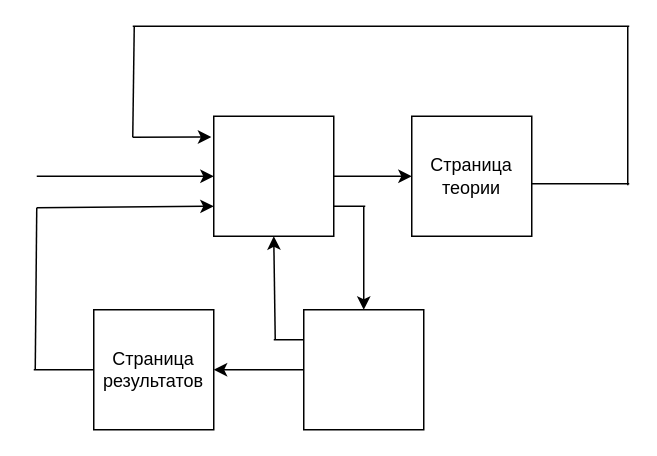
Image size: 657x456. Some labels were removed from this diagram. The shapes that lost their labels are listed below. From the top down, each one's box as (x1, y1, x2, y2) in pixels, then its label:
(212, 115, 334, 236): Титульная страница
(302, 308, 424, 430): Страница Вопросов
